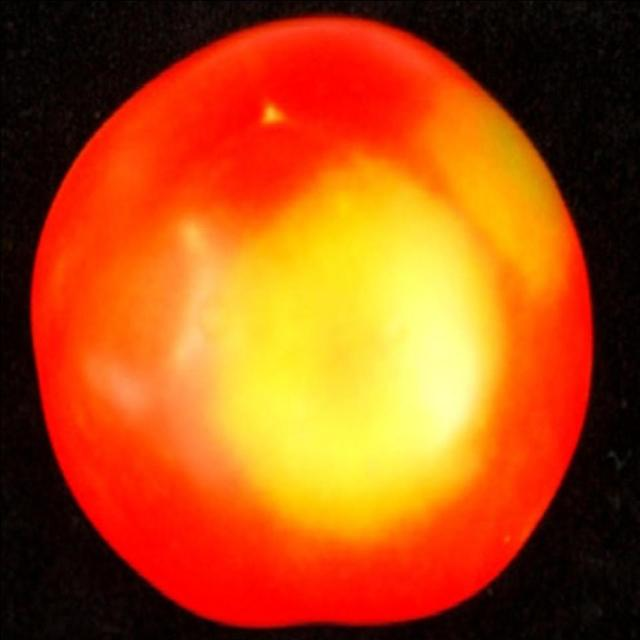Spotted wilt Virus Fruit: (192, 60, 503, 105)
